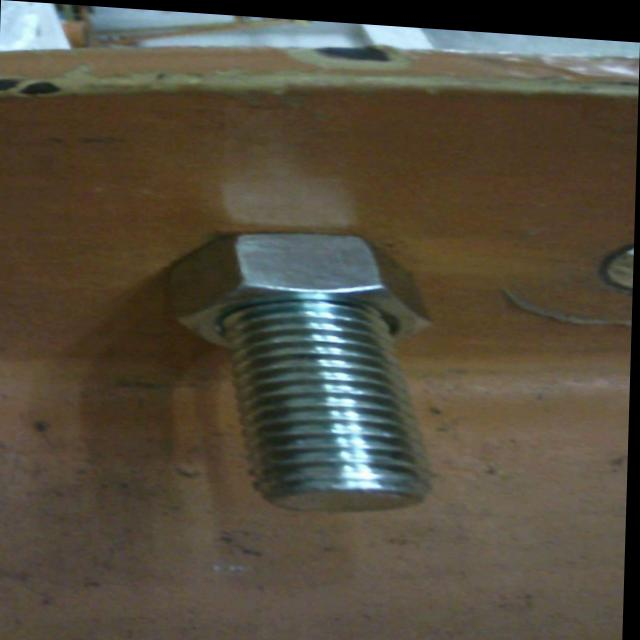Missing bolt: (605, 236, 636, 288)
Regular bolt: (165, 218, 446, 517)
